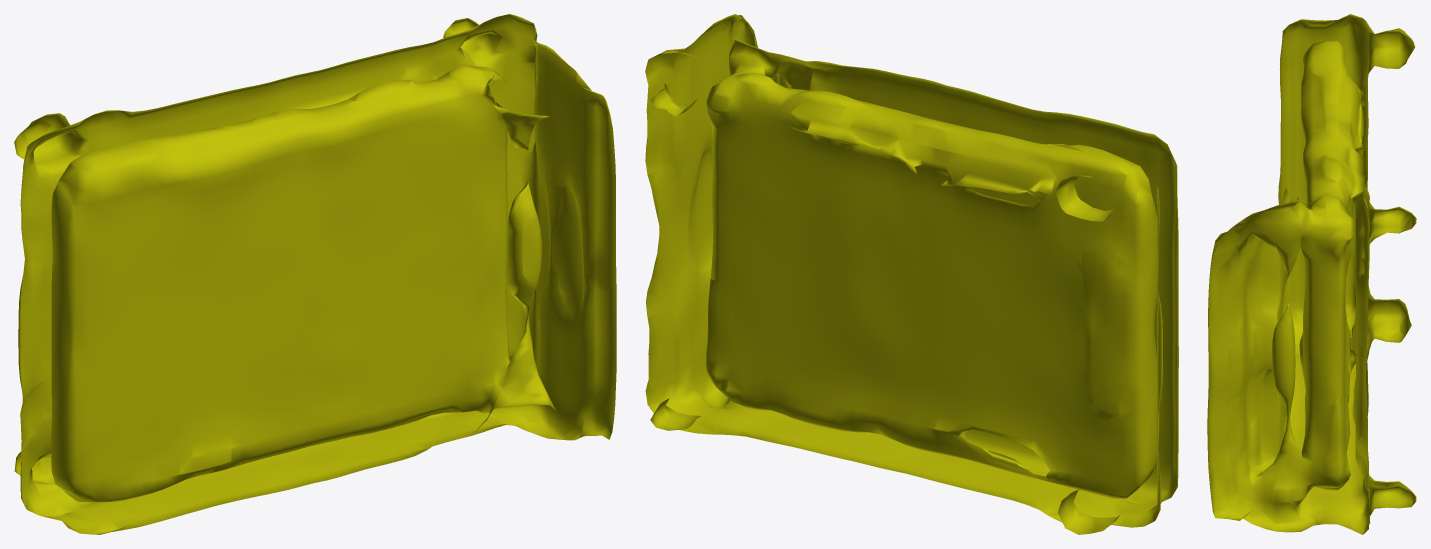
3 views of the same model, side by side, from view 1: azimuth 30°, elevation 25°; view 2: azimuth 150°, elevation 25°; view 3: azimuth 270°, elevation 25° (orthographic). The views are drawn at different scales.
Parts seen in each view (by area): view 1: world; view 2: world; view 3: world.
Part boxes in pixels (bbox=[...]): world: bbox=[14, 14, 616, 534]; world: bbox=[645, 14, 1178, 534]; world: bbox=[1207, 14, 1416, 534].
Bounding box in the file's own units: 41.79 × 29.71 × 17.05.
